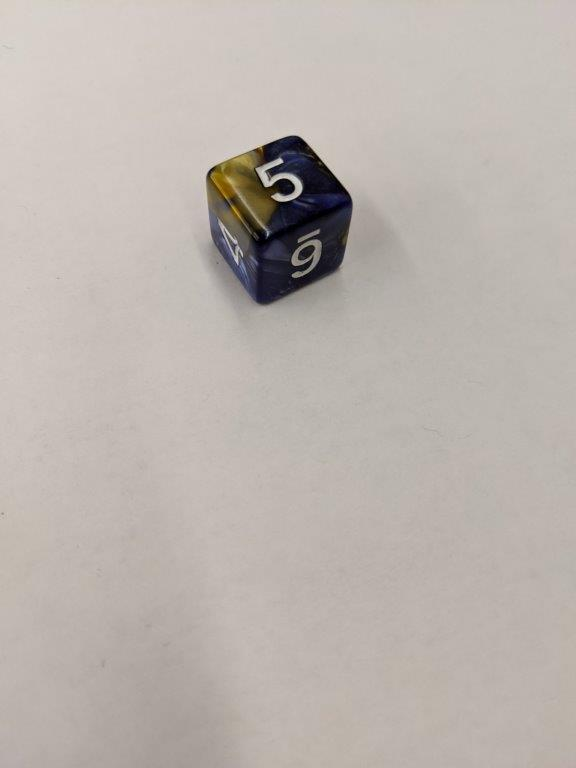d6-5: (205, 134, 354, 304)
